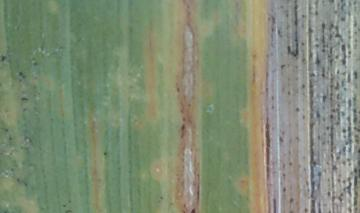tarspot: (286, 42, 293, 54), (19, 95, 30, 102), (1, 54, 9, 63), (17, 68, 25, 77), (180, 121, 186, 133), (101, 149, 109, 157), (191, 207, 196, 213)
